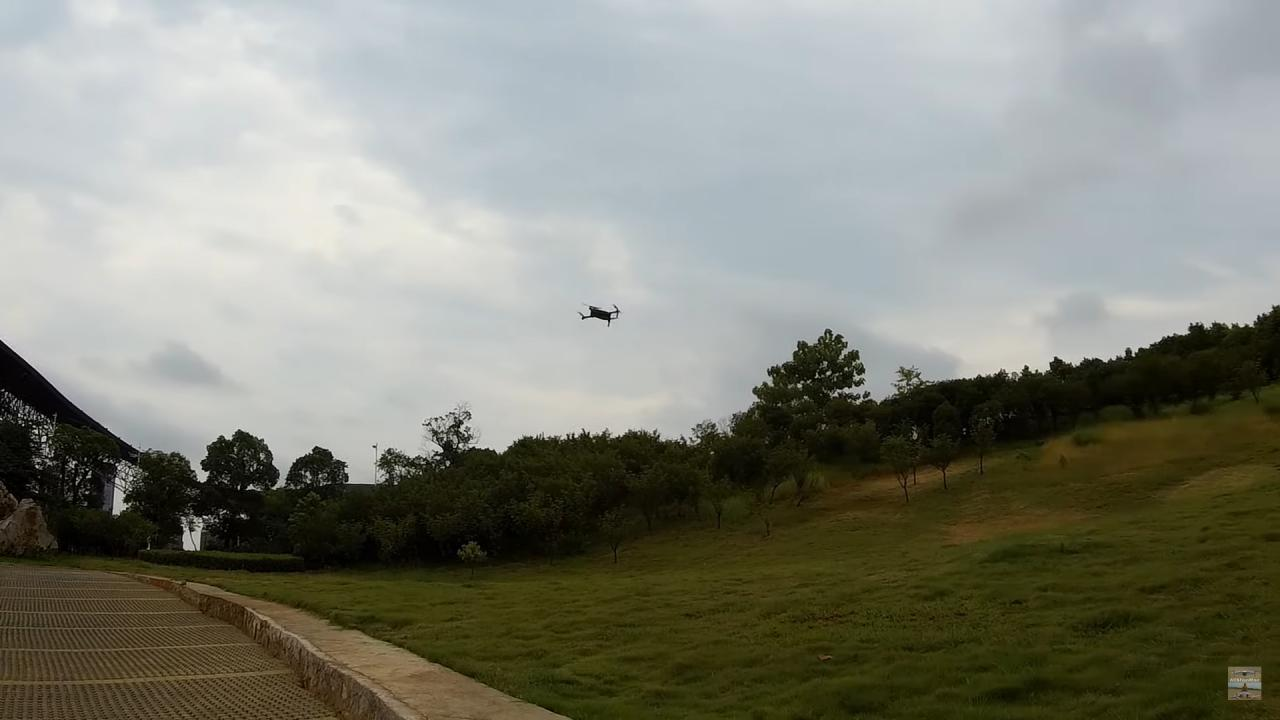Drone: (570, 295, 628, 334)
